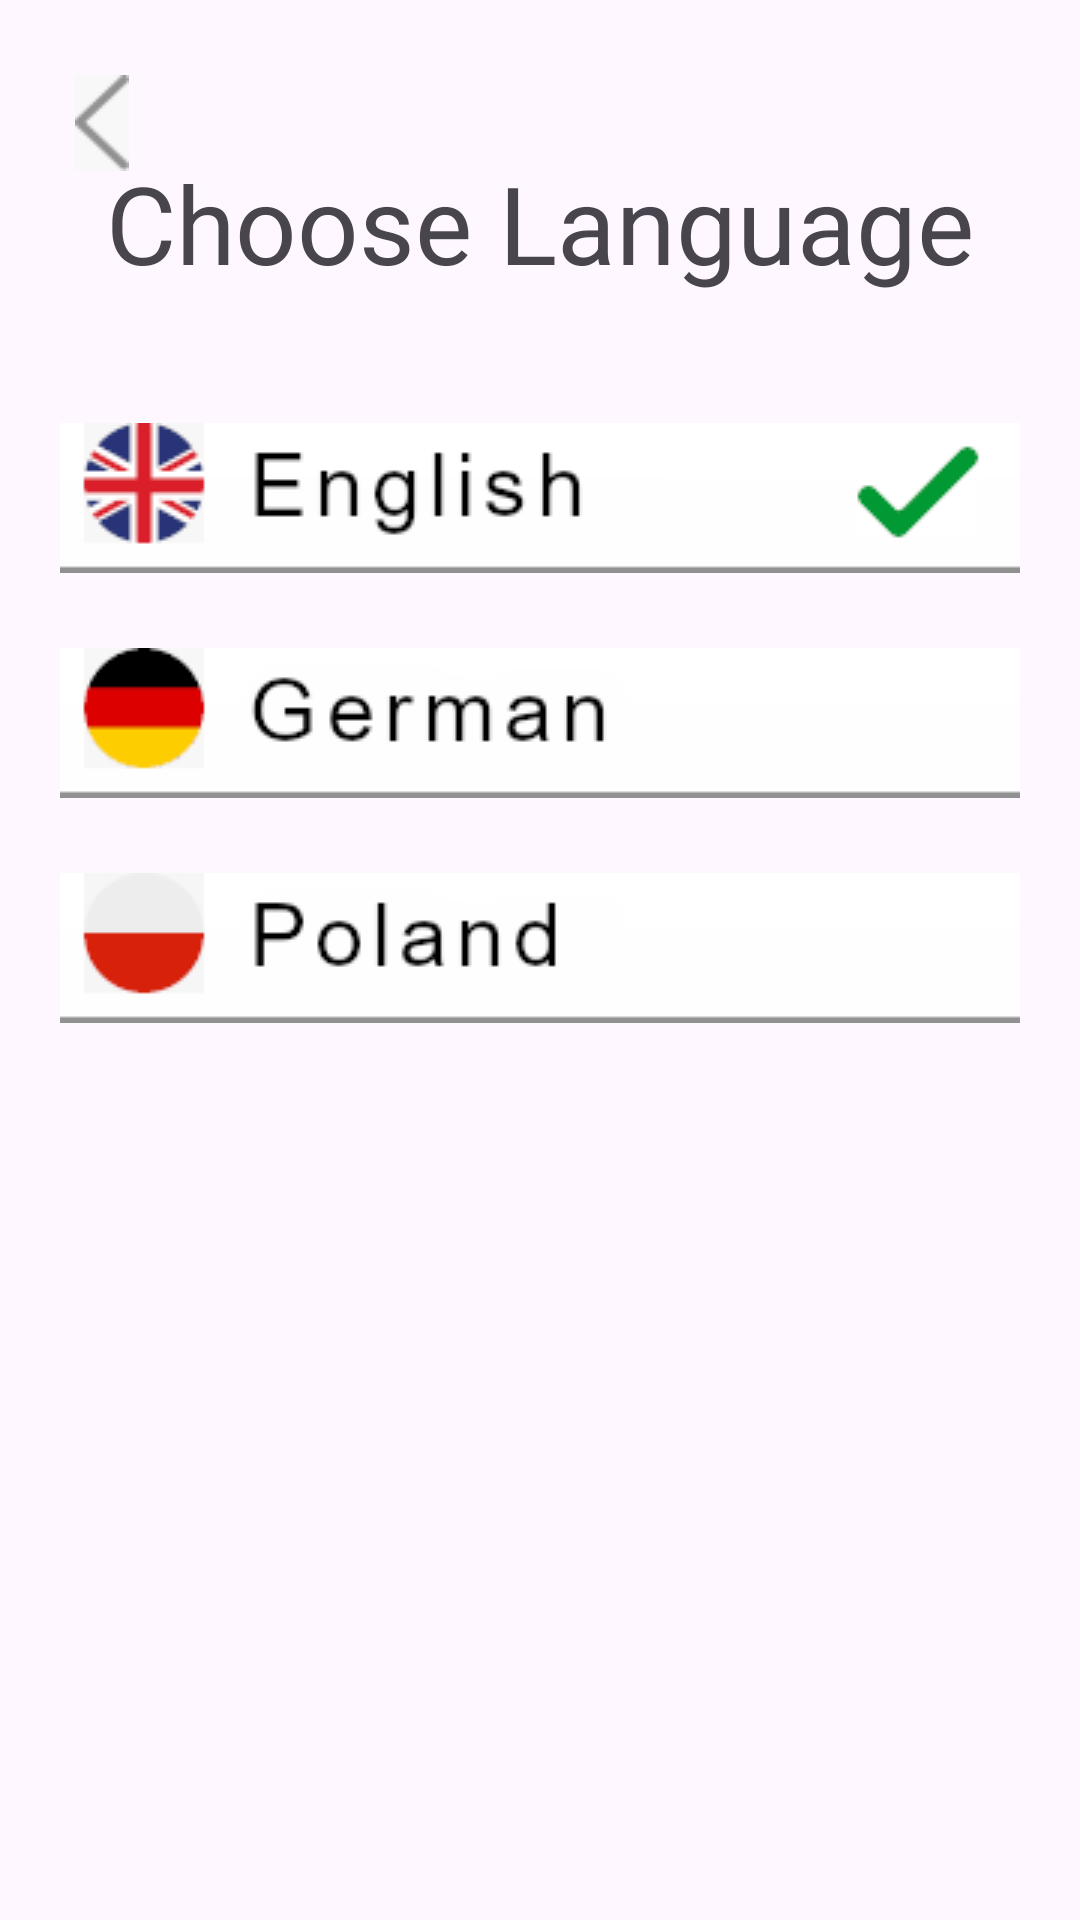

Icons on this 1080*1920 Android screen, each with the point to tap as [x,y]:
back: [102,123]
